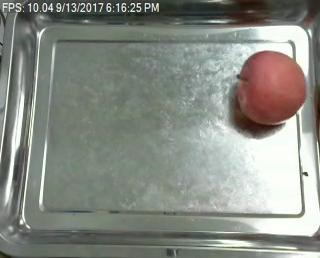apple: (237, 50, 307, 125)
